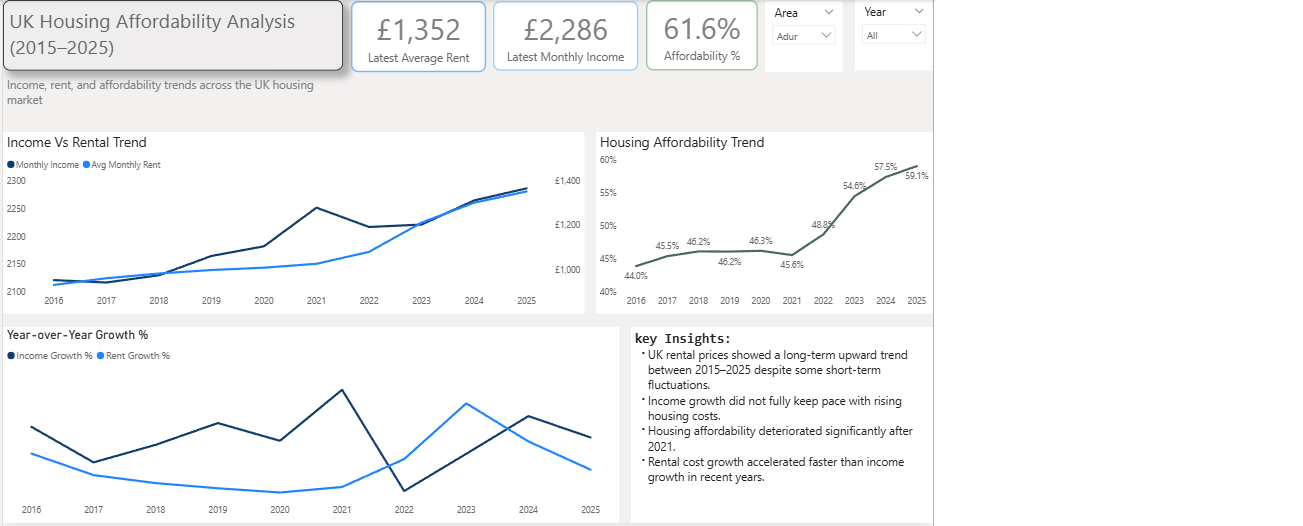

The dashboard page shown, as its layout file describes it:
{"tool":"powerbi","page":{"name":"Page 1","canvas":[1280,720],"ordinal":0},"visuals":[{"type":"textbox","box":[0,0,468,97],"z":0},{"type":"slicer","fields":{"Values":["DateTable.Year"]},"box":[1172.6,0,107.4,97],"z":1000},{"type":"slicer","fields":{"Values":["AreaTable.Area"]},"box":[1048.8,1.4,107,97.7],"z":2000},{"type":"lineChart","title":"Income Vs Rental Trend","fields":{"Category":["DateTable.Year"],"Y":["Income.Monthly Income"],"Y2":["Rent.Avg Monthly Rent"]},"box":[0,181.7,799.7,250.5],"z":4000},{"type":"lineChart","title":"Housing Affordability Trend","fields":{"Category":["DateTable.Year"],"Y":["Income.Affordability %"]},"box":[816.2,181.7,463.8,250.5],"z":5000},{"type":"card","fields":{"Values":["income-cleaned.Latest Income"]},"box":[674.4,1.4,199.6,96.3],"z":6000},{"type":"card","fields":{"Values":["income-cleaned.Latest Rent"]},"box":[479,1.4,185.8,97.7],"z":7000},{"type":"card","fields":{"Values":["income-cleaned.Affordibility"]},"box":[885,0,154.2,97],"z":8000},{"type":"textbox","box":[864.3,450.1,415.7,269.8],"z":10000},{"type":"lineChart","title":"Year-over-Year Growth %","fields":{"Category":["DateTable.Year"],"Y2":["Rent.Rent Growth %"],"Y":["Rent.Income Growth %"]},"box":[0,450.1,847.8,269.8],"z":11000},{"type":"textbox","box":[0,100.5,468,60.6],"z":12000}]}

Visuals, with their boxes on the page's 1280x720 design canvas (x1, y1, x2, y2). These are canvas units, not pixel positions in the 1303x526 screenshot, which may show the page scaled, cropped or inside an application window:
textbox: select_region(0, 0, 468, 97)
slicer - DateTable.Year: select_region(1173, 0, 1280, 97)
slicer - AreaTable.Area: select_region(1049, 1, 1156, 99)
"Income Vs Rental Trend" lineChart: select_region(0, 182, 800, 432)
"Housing Affordability Trend" lineChart: select_region(816, 182, 1280, 432)
card - income-cleaned.Latest Income: select_region(674, 1, 874, 98)
card - income-cleaned.Latest Rent: select_region(479, 1, 665, 99)
card - income-cleaned.Affordibility: select_region(885, 0, 1039, 97)
textbox: select_region(864, 450, 1280, 720)
"Year-over-Year Growth %" lineChart: select_region(0, 450, 848, 720)
textbox: select_region(0, 100, 468, 161)
